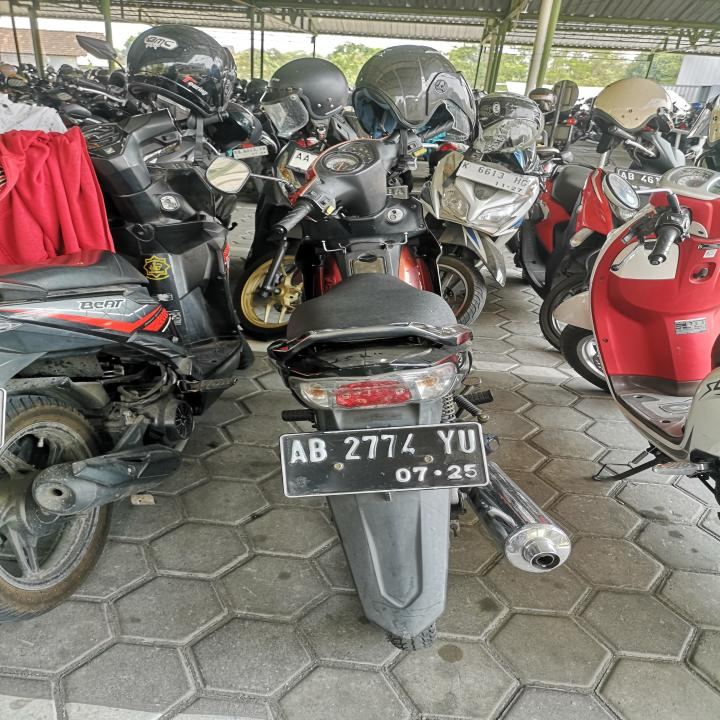plate: (278, 421, 494, 501), (456, 160, 531, 196)
